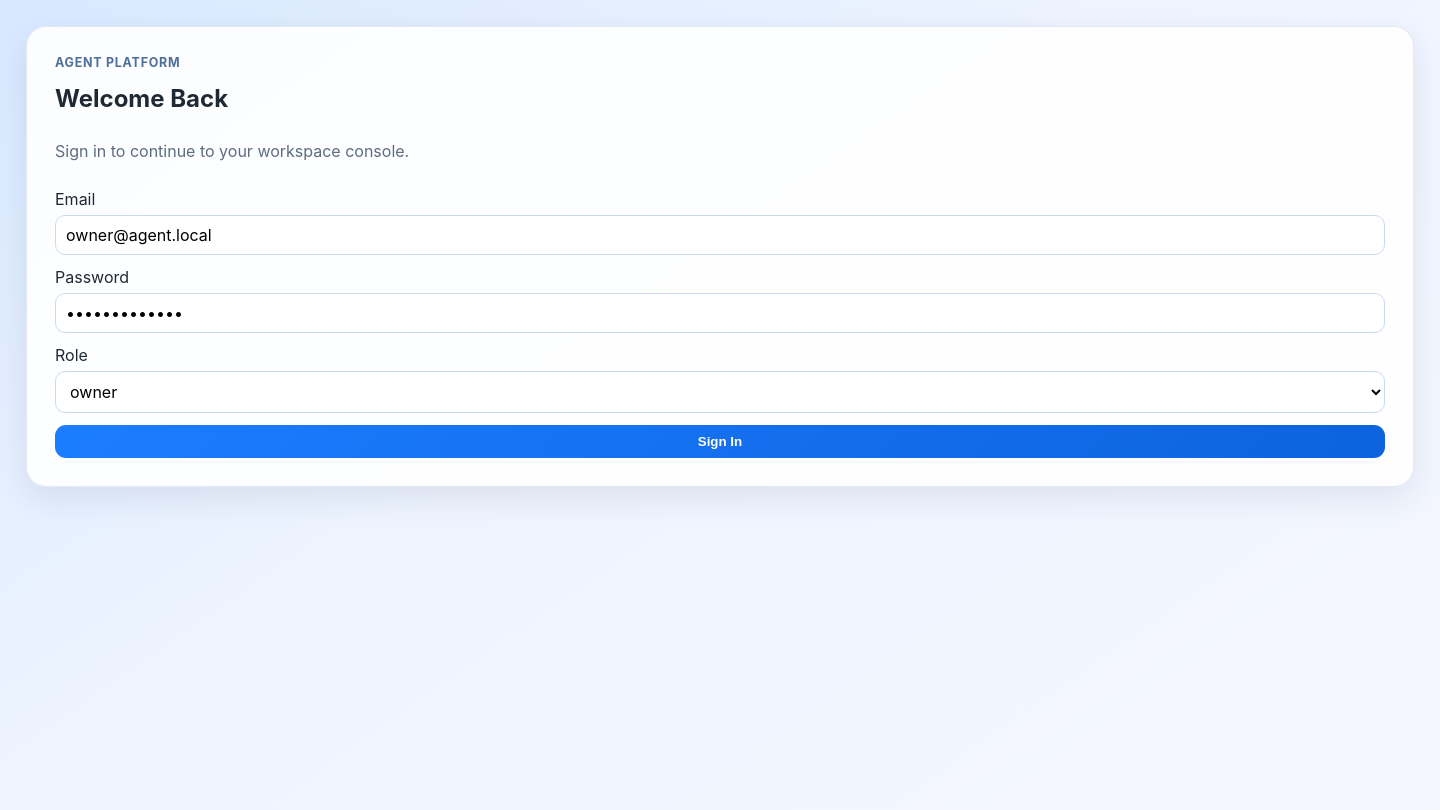
it: LoginPage › signs in successfully and updates auth state
The image size is (1440, 810).
Click the button "Sign In": (720,442) [55,425,1385,458]
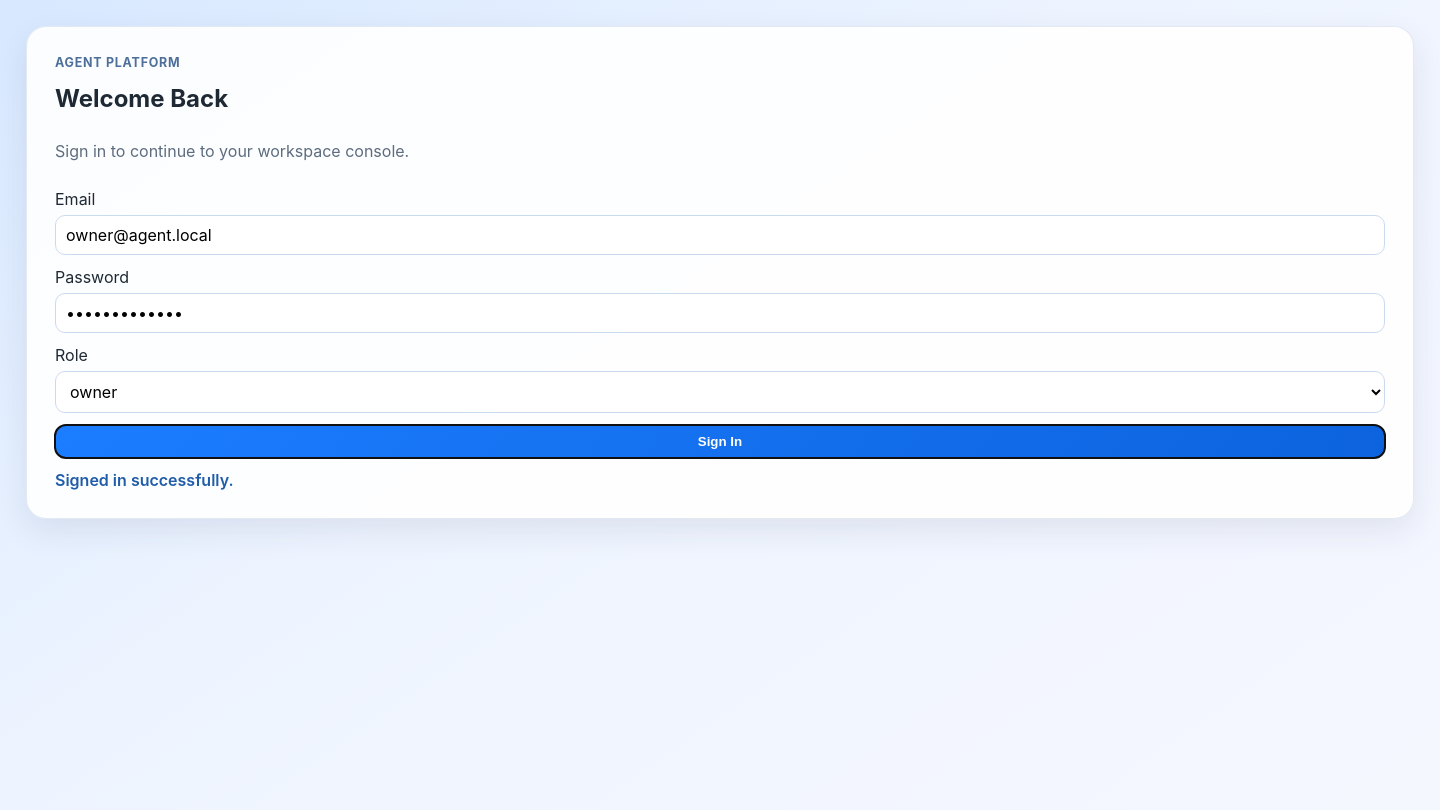
Check: the text "Signed in successfully." is shown, box [55,470,234,490]
